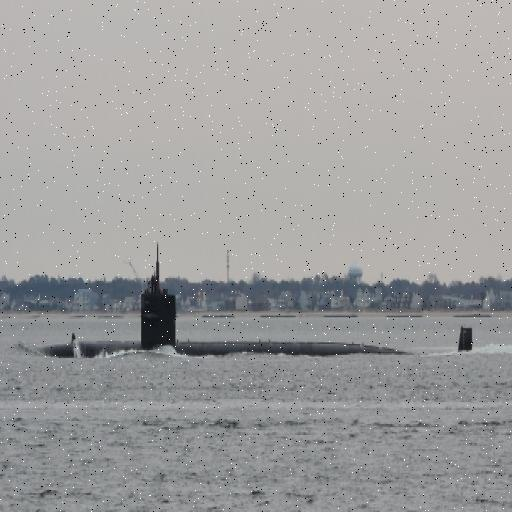submarine: (37, 290, 473, 359)
